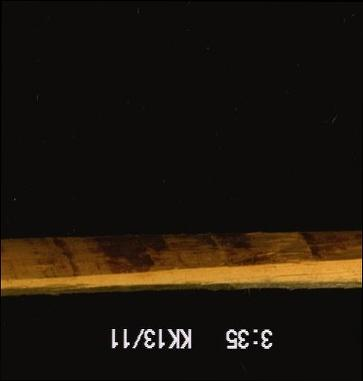wave: (0, 239, 361, 288)
